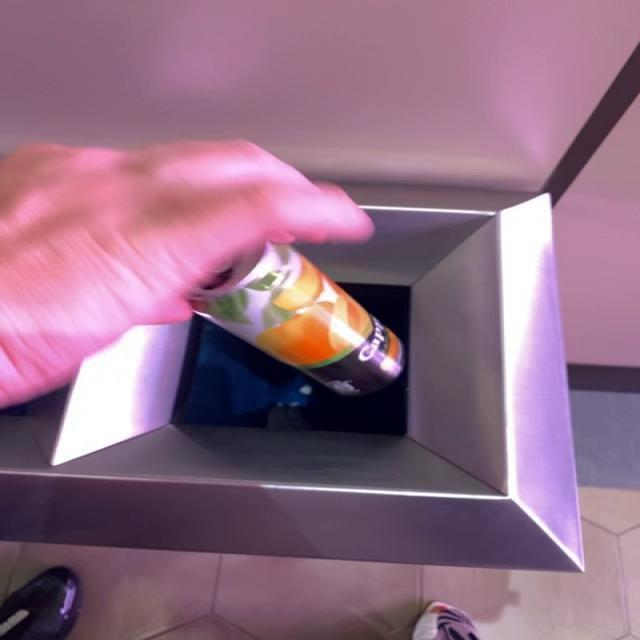Bin: (3, 186, 584, 572)
Metal: (193, 244, 404, 396)
